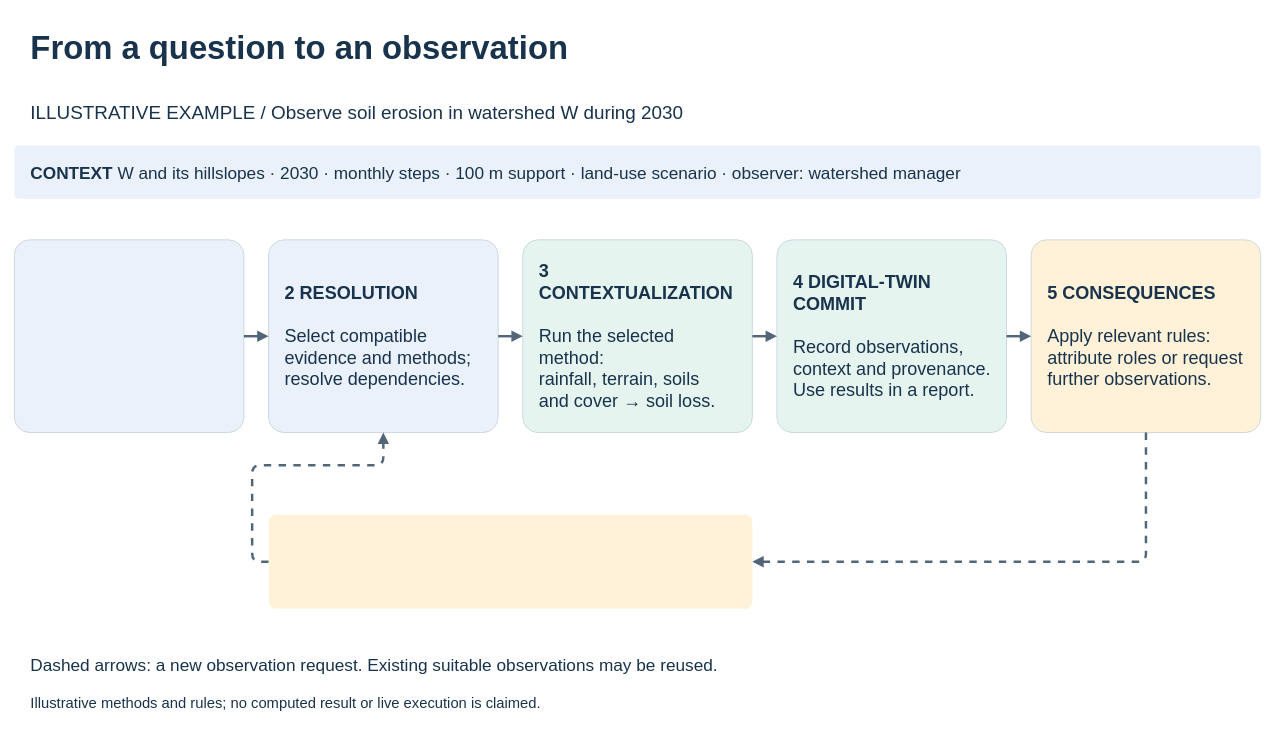
Some shapes in this 1275 by 733 pixel diagram are drawn without their labels. Here are the shapes that lost their labels. From the top down, the centre of each, then its label:
the point at 129,336: 1 SUBMISSION State what should be observed and in which context.
the point at 510,561: NEW OBSERVATION REQUEST Return to resolution with the same contextual frame.
